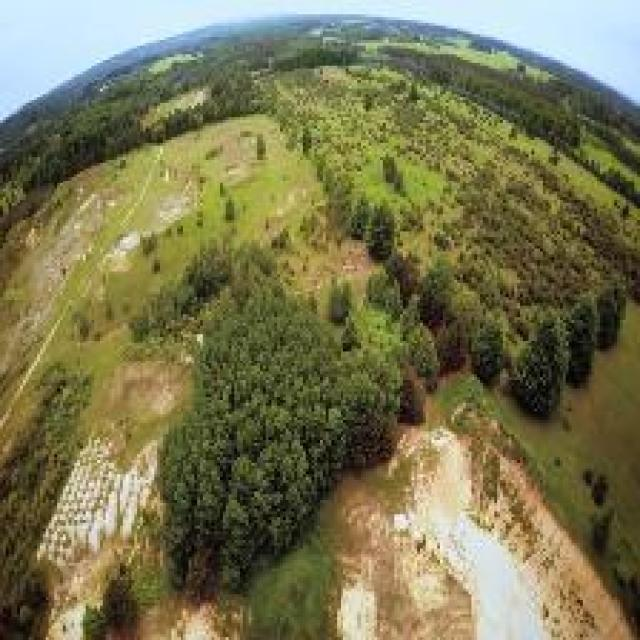other: (383, 424, 567, 627)
